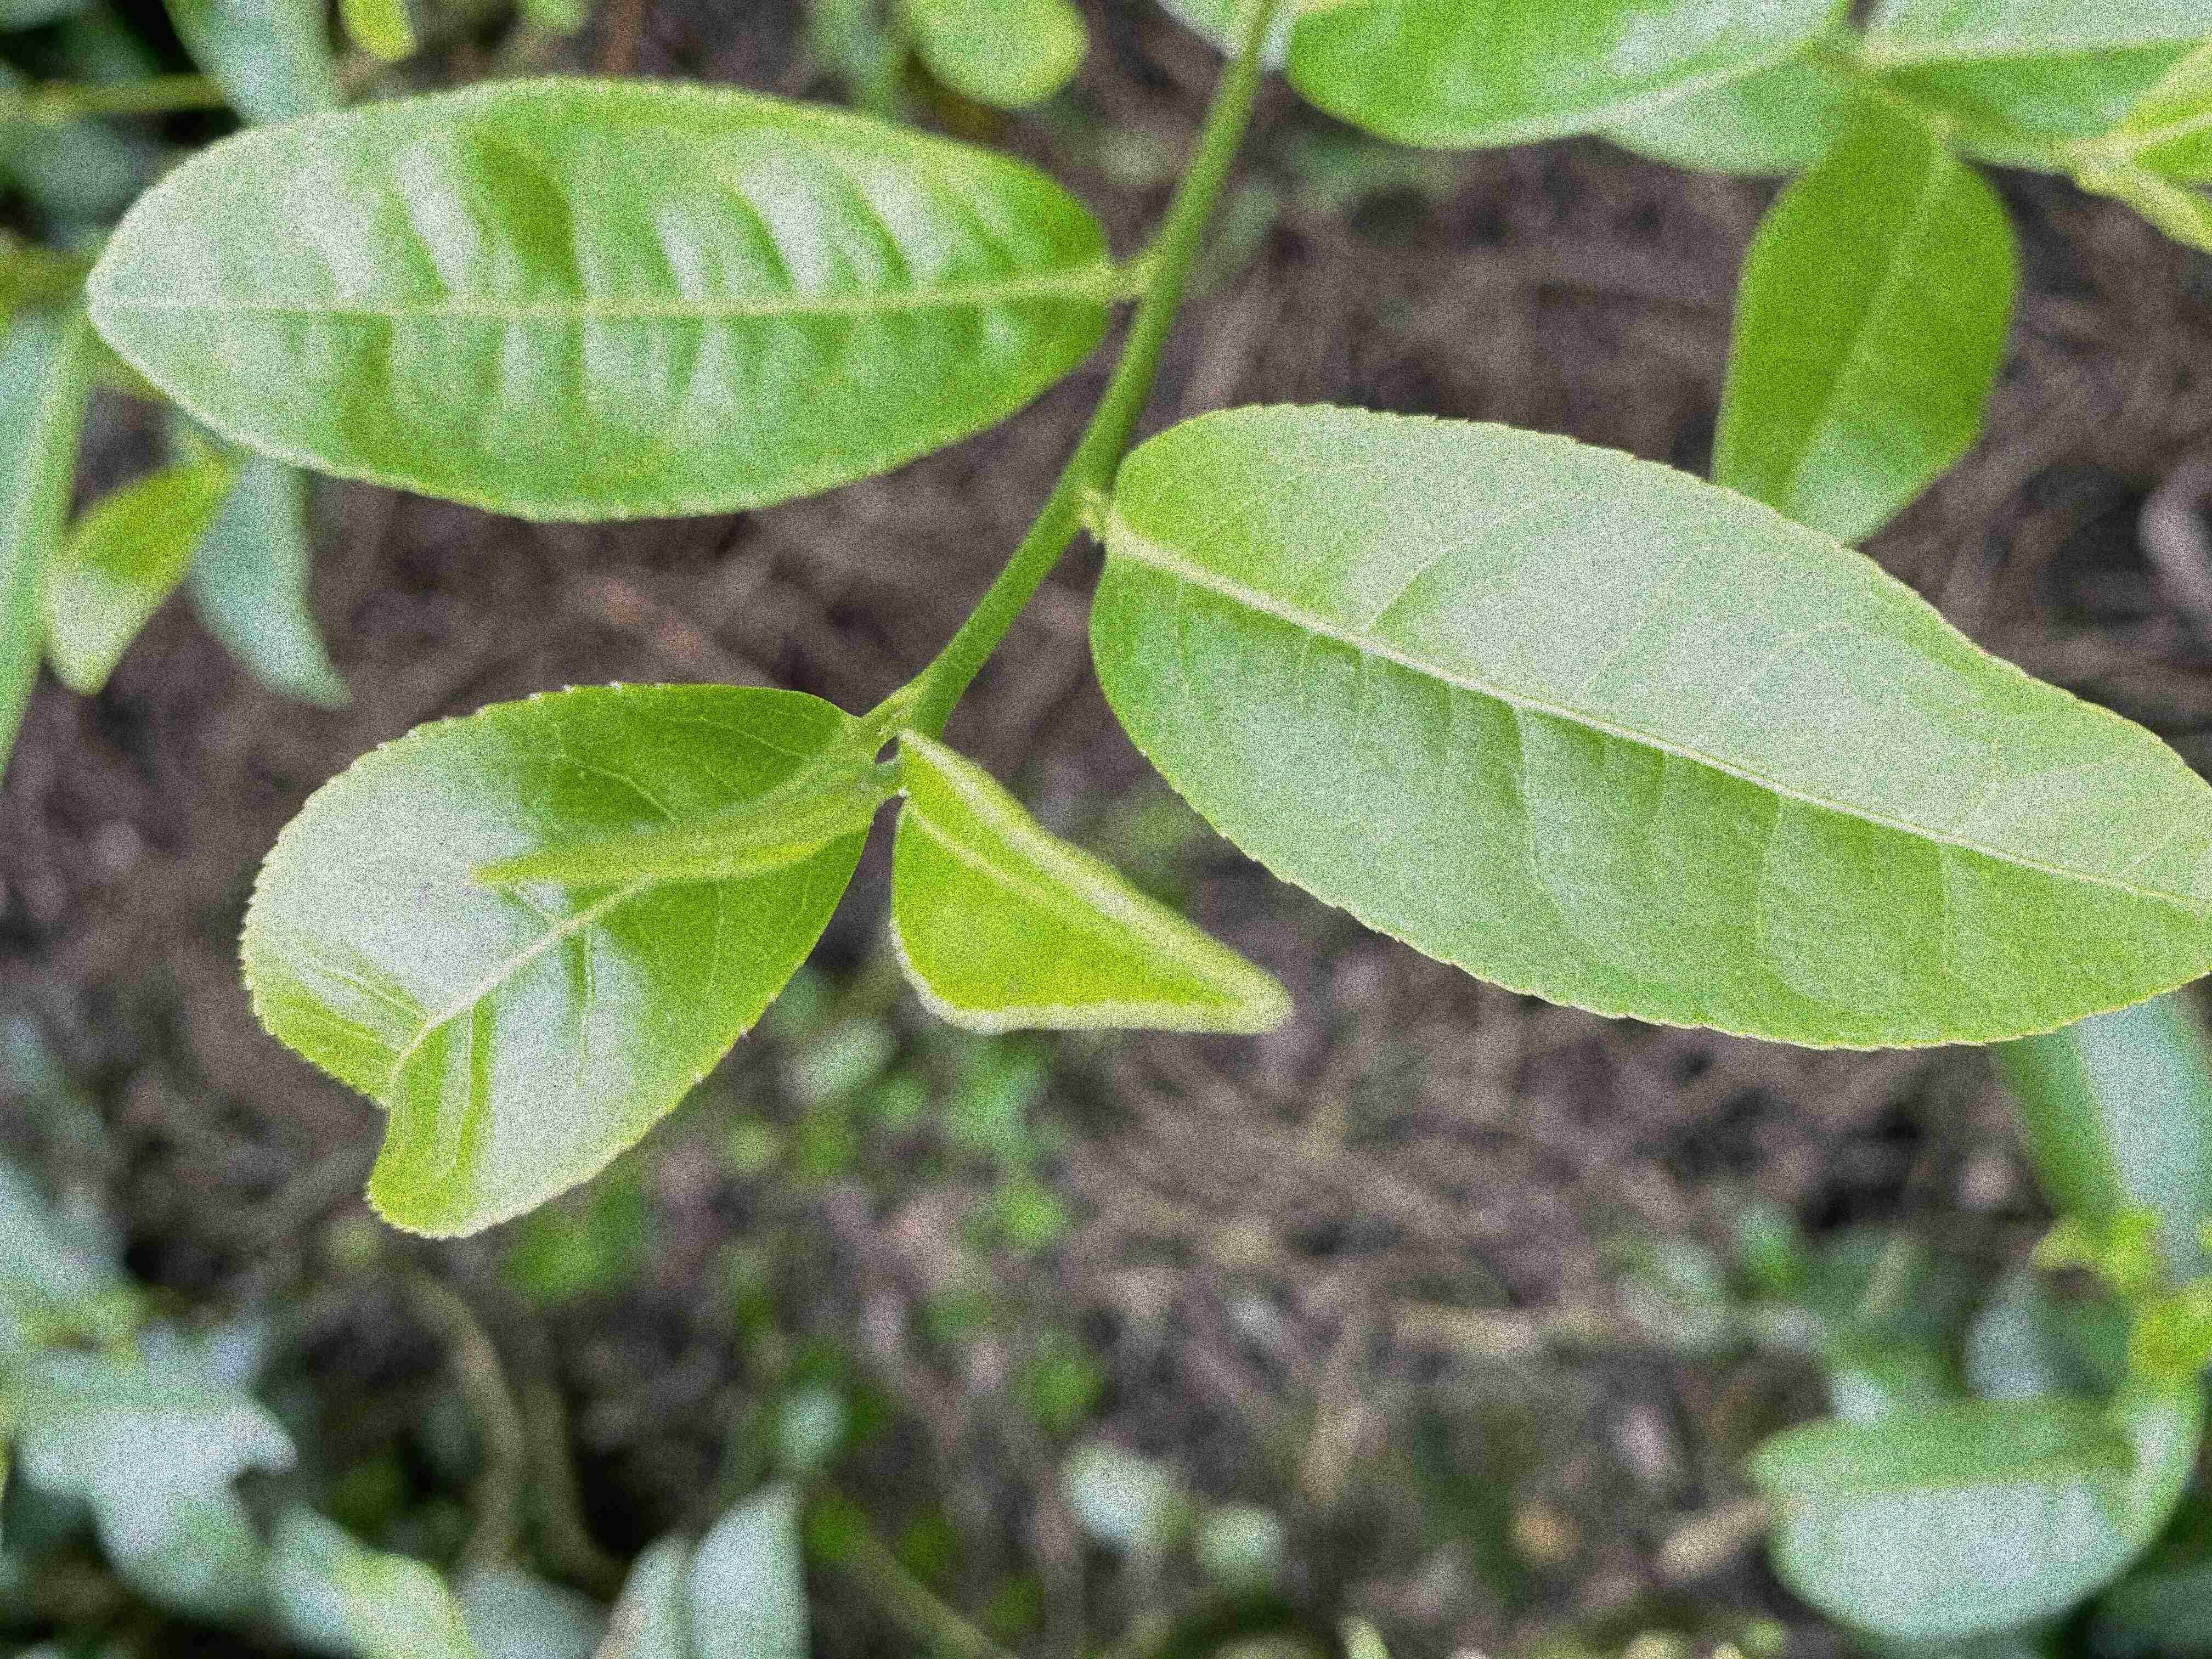healthy: (1090, 401, 2209, 1053), (82, 73, 1113, 525), (887, 725, 1289, 1037)
tanju_low: (233, 676, 880, 1241)
